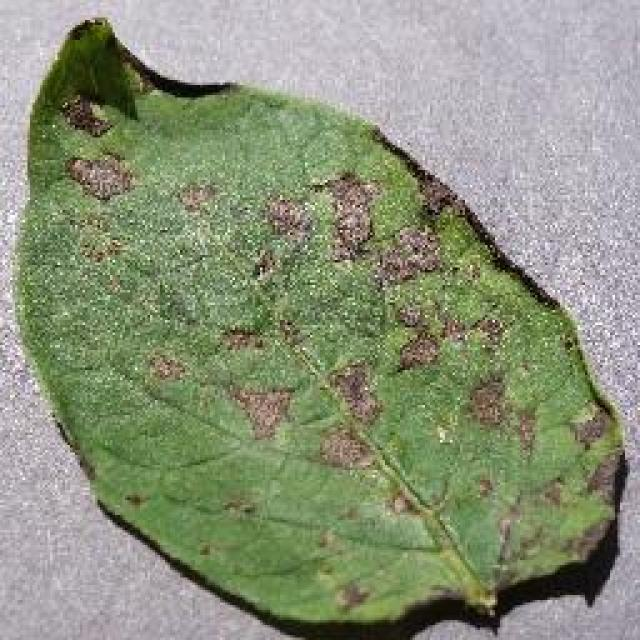early_blight: (8, 12, 628, 638)
